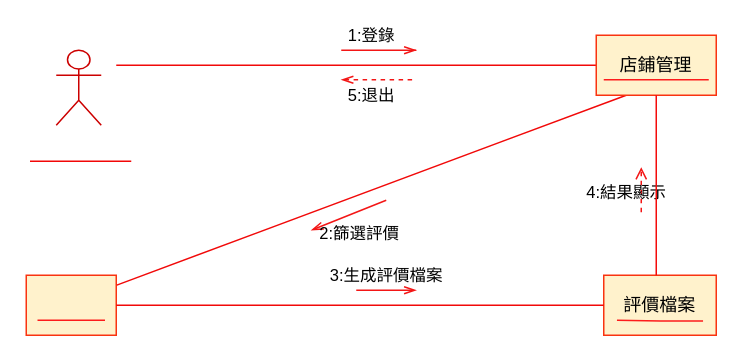
Some shapes in this 743 by 362 pixel diagram are drawn without their labels. Here are the shapes that lost their labels. From the top down, the centre of each, then its label:
(x=78, y=87): :店鋪管理員
(x=70, y=304): 評價控制
